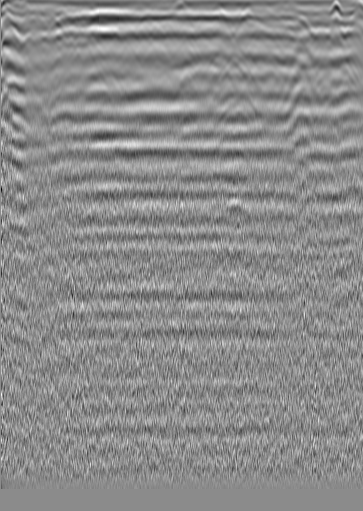가스: (220, 197, 251, 223)
상수: (291, 11, 311, 31)
오수: (18, 29, 38, 49)
우수: (143, 18, 163, 38)
